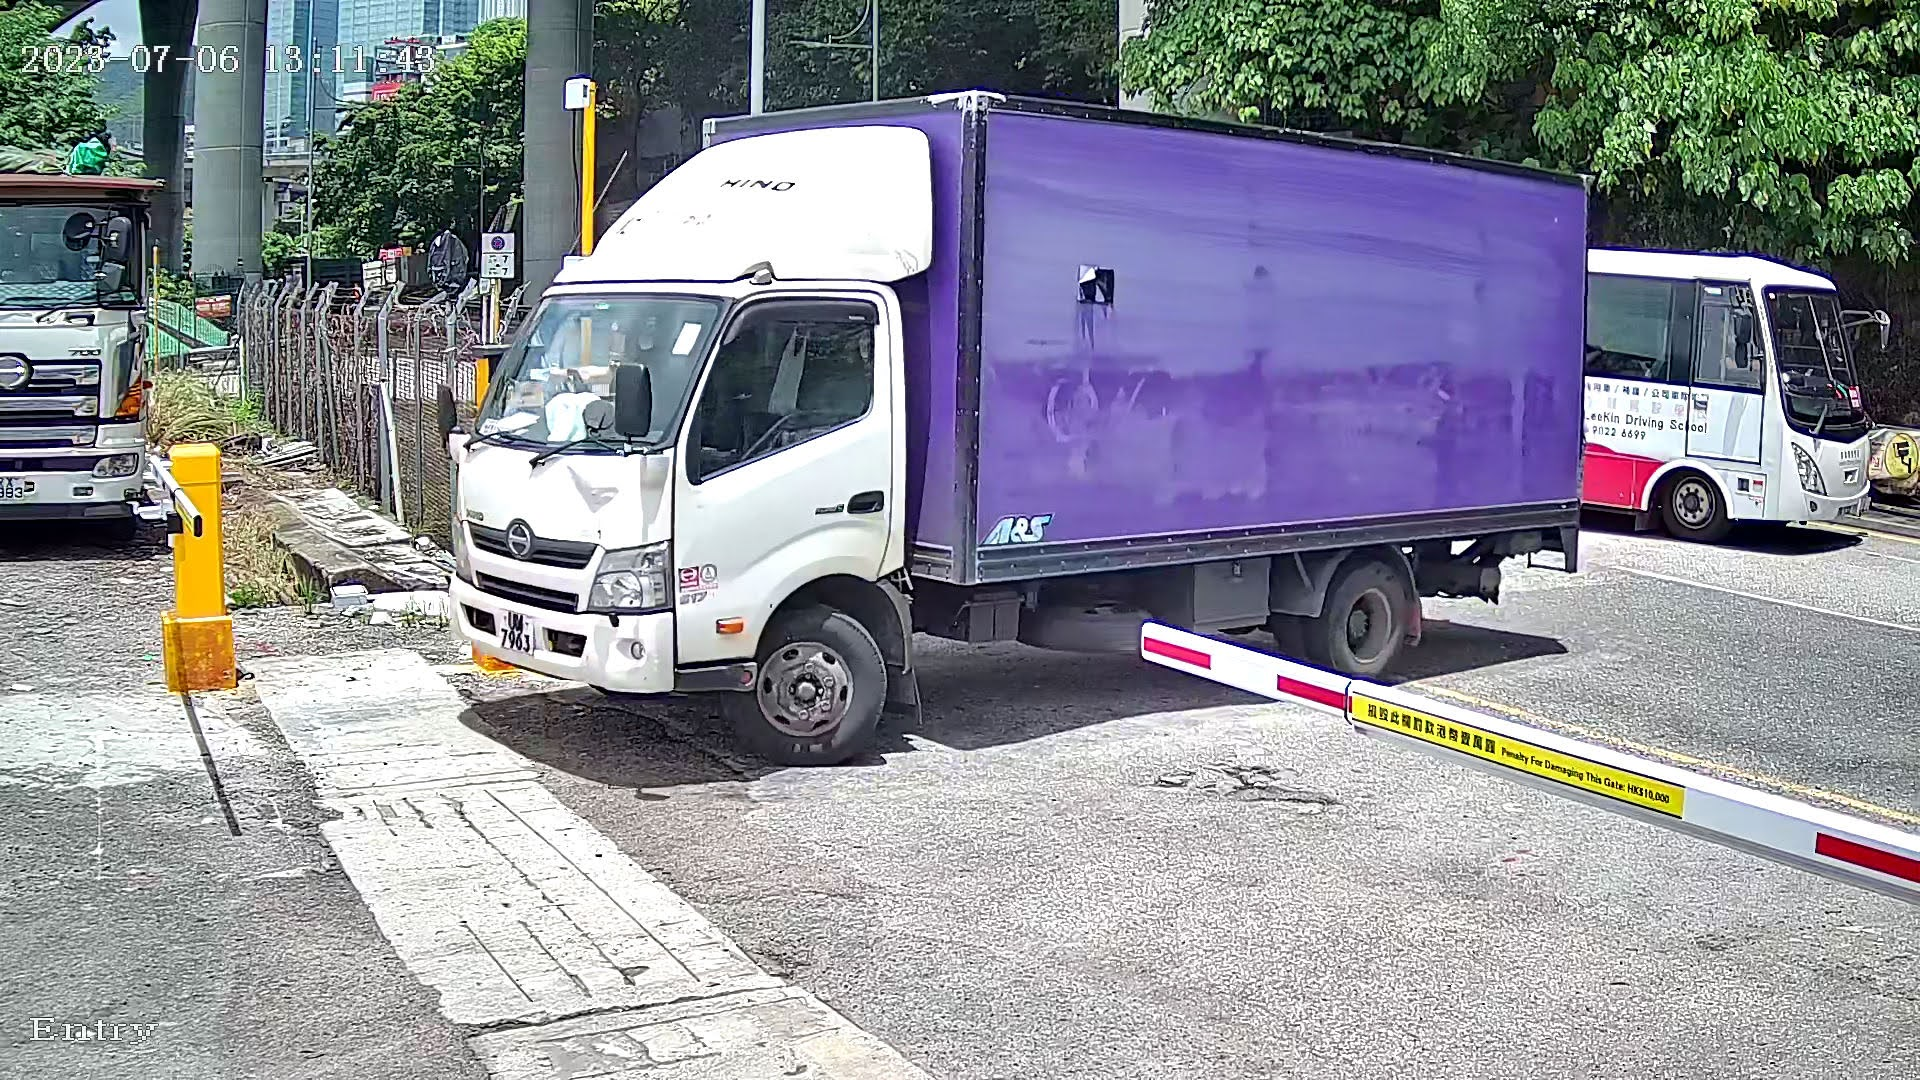truck: (363, 69, 1688, 769)
